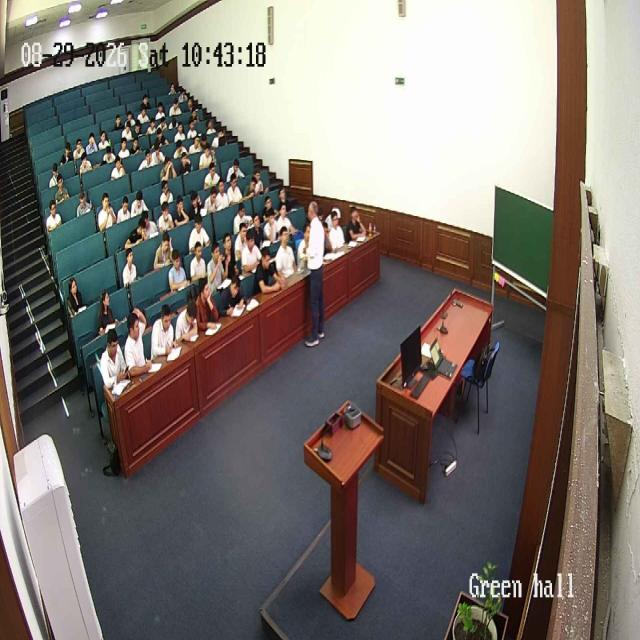person: (302, 201, 326, 347), (98, 327, 130, 393), (123, 310, 153, 376), (150, 302, 178, 360), (253, 245, 283, 295), (214, 271, 244, 318), (195, 283, 222, 333), (174, 296, 200, 346), (275, 225, 297, 279), (96, 288, 118, 336), (66, 275, 88, 321), (240, 230, 262, 276), (207, 239, 227, 289), (168, 251, 190, 293), (190, 241, 210, 286), (188, 212, 210, 252), (234, 208, 254, 252), (221, 231, 240, 277), (153, 231, 175, 270), (327, 212, 347, 254), (122, 244, 140, 290), (322, 212, 341, 255), (346, 207, 368, 243), (122, 220, 146, 250), (98, 194, 116, 232), (263, 207, 281, 245), (142, 209, 162, 239), (157, 201, 175, 234), (188, 191, 206, 224), (46, 198, 62, 234), (172, 194, 190, 226), (130, 188, 149, 217), (226, 174, 244, 204), (203, 160, 221, 190), (54, 172, 70, 205), (203, 184, 220, 215), (75, 190, 93, 219), (276, 203, 291, 237), (116, 196, 134, 224), (158, 179, 176, 207), (75, 150, 95, 174), (109, 158, 128, 182), (252, 162, 266, 194), (176, 150, 196, 172), (158, 158, 176, 182), (261, 192, 277, 219), (198, 144, 216, 167), (225, 158, 242, 182), (48, 160, 63, 186), (58, 143, 74, 167), (249, 212, 263, 239), (116, 135, 130, 159), (188, 132, 202, 156), (213, 127, 229, 148), (278, 189, 291, 213), (172, 137, 185, 160), (174, 121, 188, 142), (102, 146, 115, 168), (155, 130, 170, 149), (140, 151, 154, 171), (302, 224, 310, 258), (166, 112, 178, 134), (187, 120, 200, 140), (135, 109, 151, 125), (245, 174, 256, 197), (168, 100, 182, 118), (98, 131, 110, 152), (144, 115, 156, 136), (112, 112, 125, 130), (121, 121, 132, 142), (132, 118, 142, 140), (198, 132, 209, 152), (126, 109, 138, 127), (86, 133, 98, 151), (74, 140, 86, 158), (206, 119, 217, 137), (152, 144, 163, 162), (129, 136, 141, 152), (155, 102, 166, 119), (190, 105, 200, 123), (186, 92, 194, 112), (175, 90, 188, 102), (142, 93, 152, 108), (158, 116, 165, 131), (168, 82, 175, 96)
